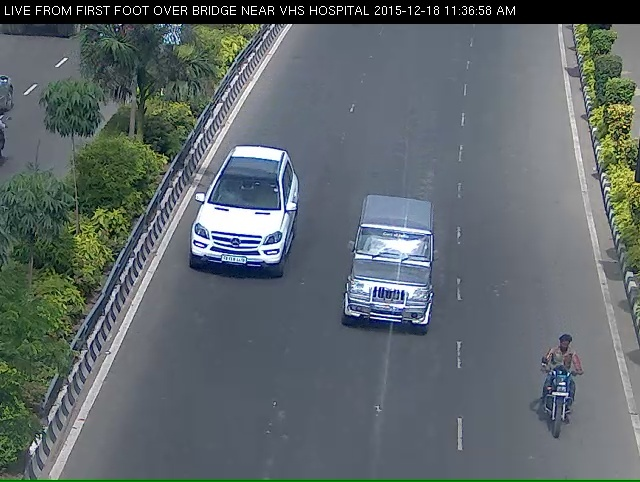Car: (168, 167, 294, 319), (336, 203, 444, 368)
Person: (535, 342, 591, 466)
